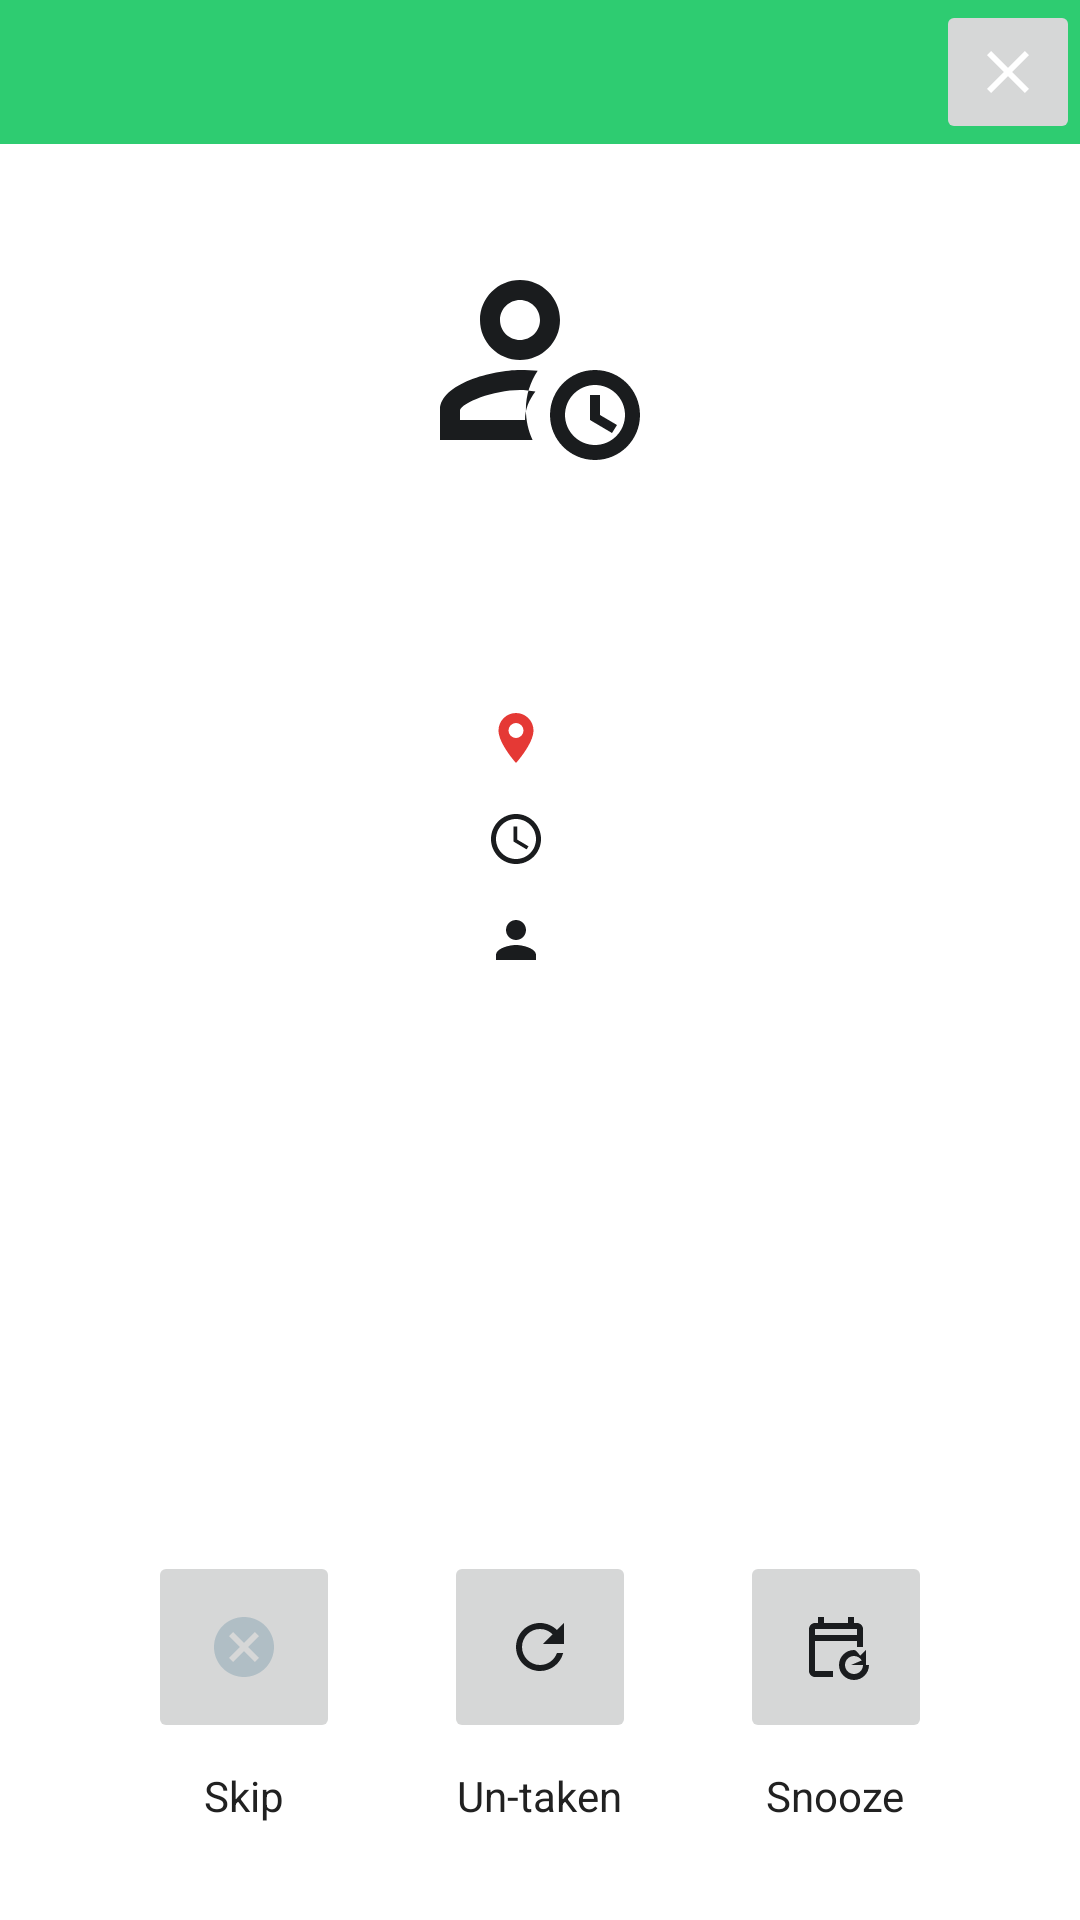

Screen size 1080*1920. Icon name, then its box in pixels as (x1, y1, x2, y2):
access time: (491, 814, 541, 864)
appointment person: (440, 280, 640, 460)
close modal button: (948, 18, 1068, 126)
location: (498, 713, 534, 763)
person: (496, 920, 536, 960)
